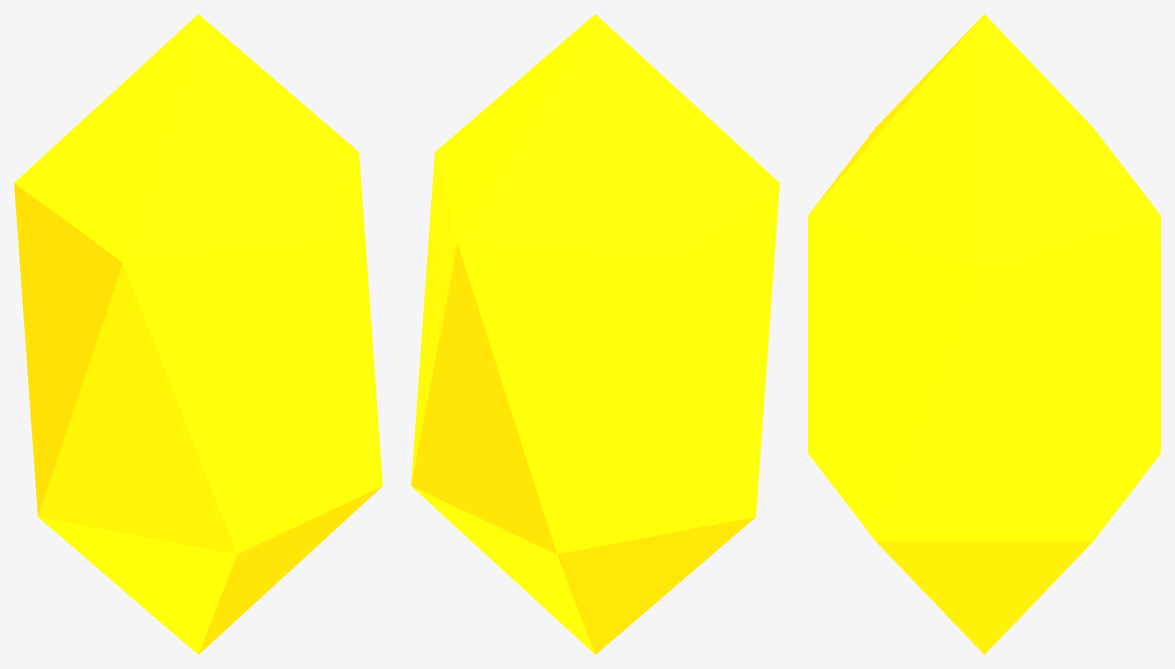
The model's file is anomaly_geo.glb.
3 renders of one model, left to right at view 1: azimuth 30°, elevation 25°; view 2: azimuth 150°, elevation 25°; view 3: azimuth 270°, elevation 25°, orthographic.
Parts seen in each view (by area): view 1: Icosphere; view 2: Icosphere; view 3: Icosphere.
Part boxes in pixels (left/top/right/bottom): Icosphere: left=14, top=14, right=382, bottom=654; Icosphere: left=411, top=14, right=779, bottom=654; Icosphere: left=808, top=14, right=1160, bottom=654.
Size of the model in its own units: 1.75 by 3.34 by 1.66.
